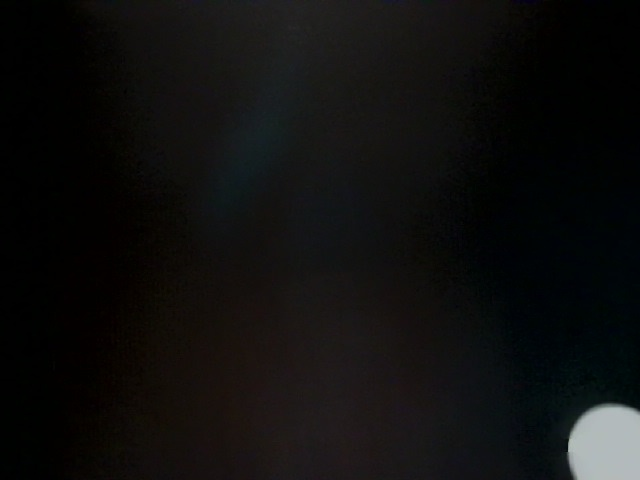QTLJ: (221, 230, 416, 477)
